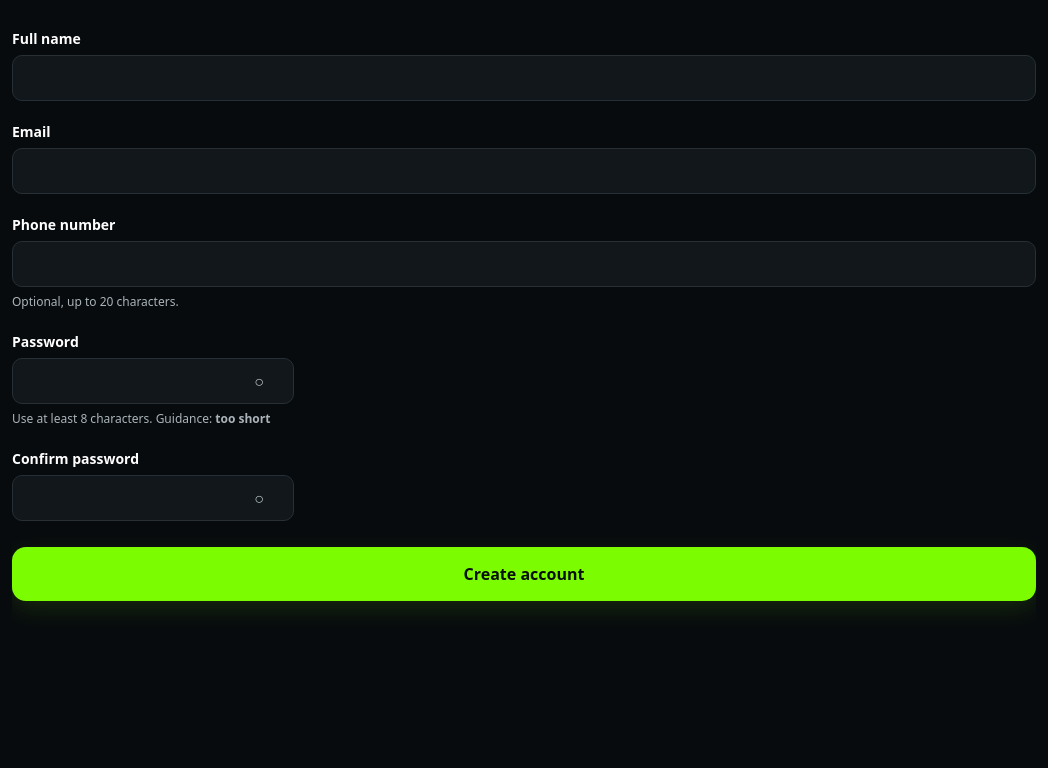
Test case: AuthForm V2 › rejects registration password mismatch without request
Step 1. Type "Mona Ali" into the field labelled "Full name" → [524, 78], box [13, 56, 1035, 100]
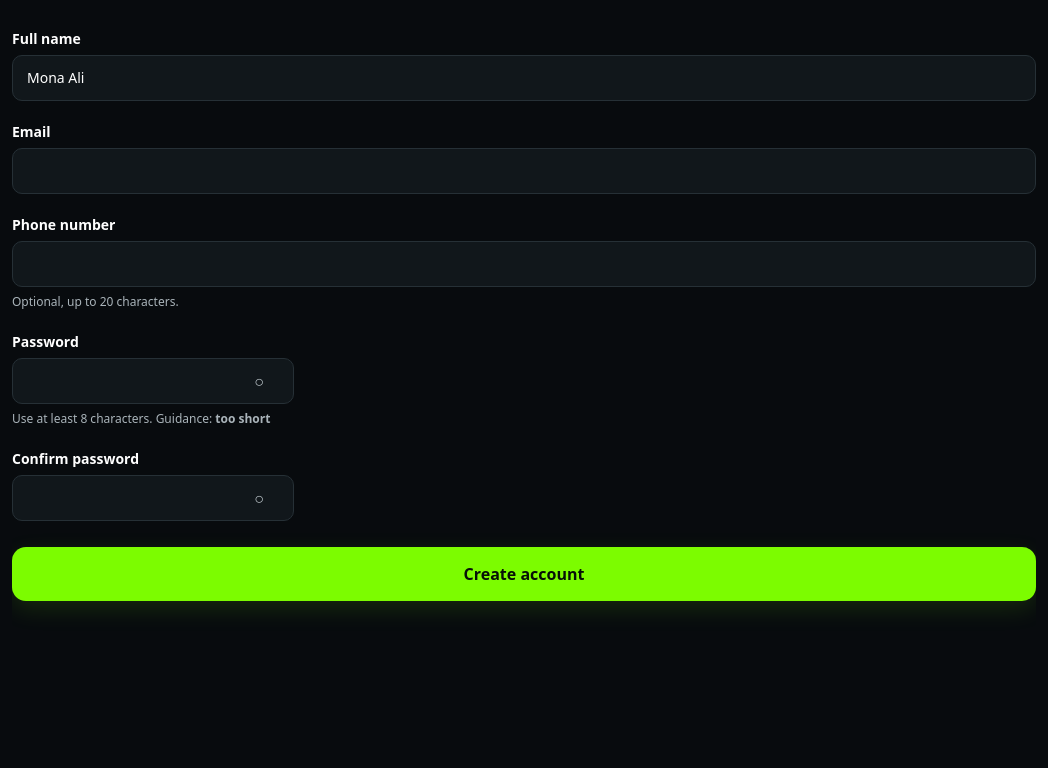
Step 2. Type "player@example.com" into the field labelled "Email" → [524, 171], box [13, 149, 1035, 193]
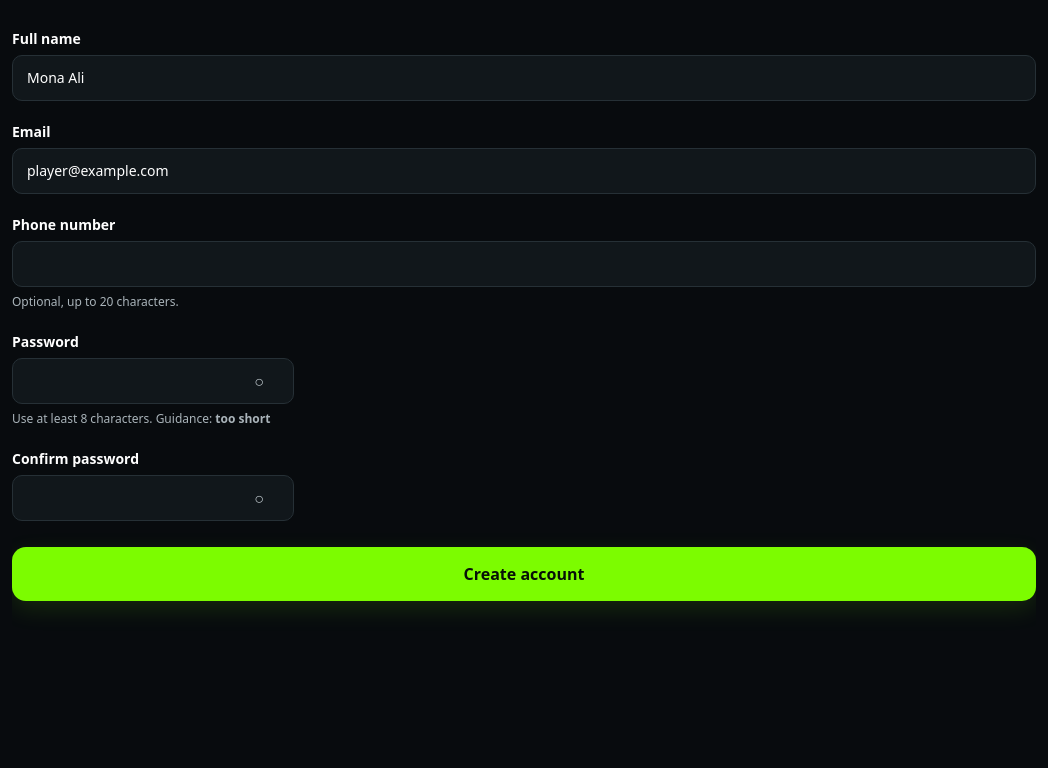
Step 3. Type "password1" into the password field labelled "Password" → [125, 381], box [13, 359, 237, 403]
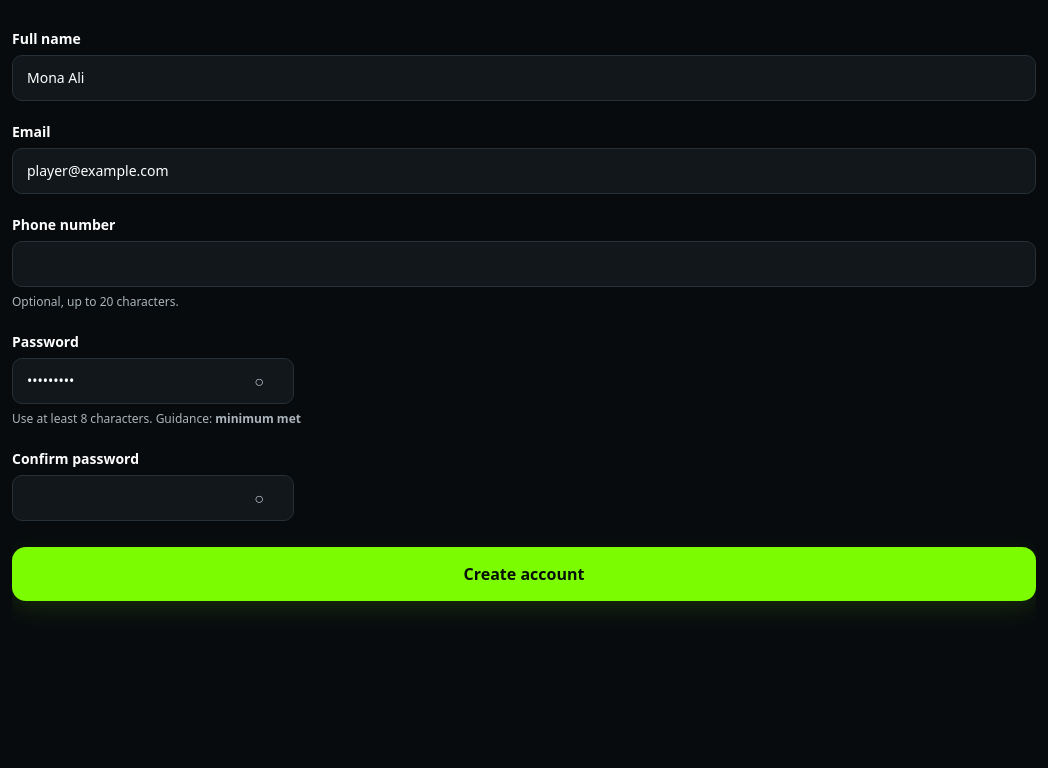
Step 4. Type "password1" into the password field labelled "Confirm password" → [125, 498], box [13, 476, 237, 520]
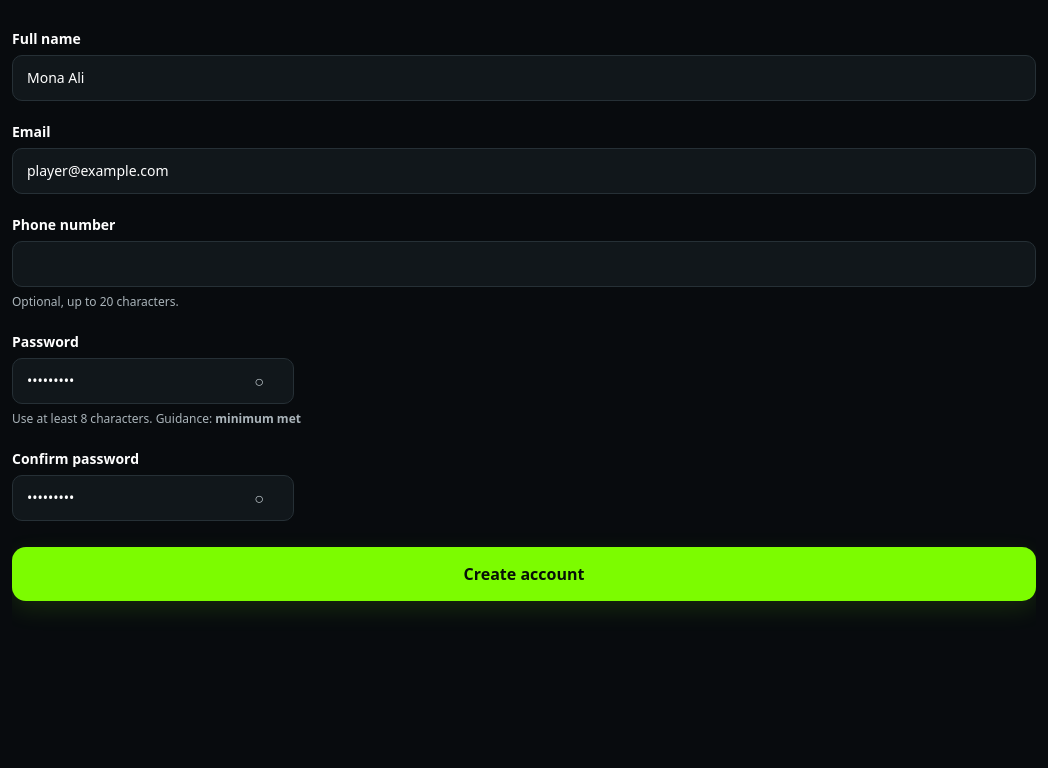
Step 5. Type "different1" into the password field labelled "Confirm password" → [125, 498], box [13, 476, 237, 520]
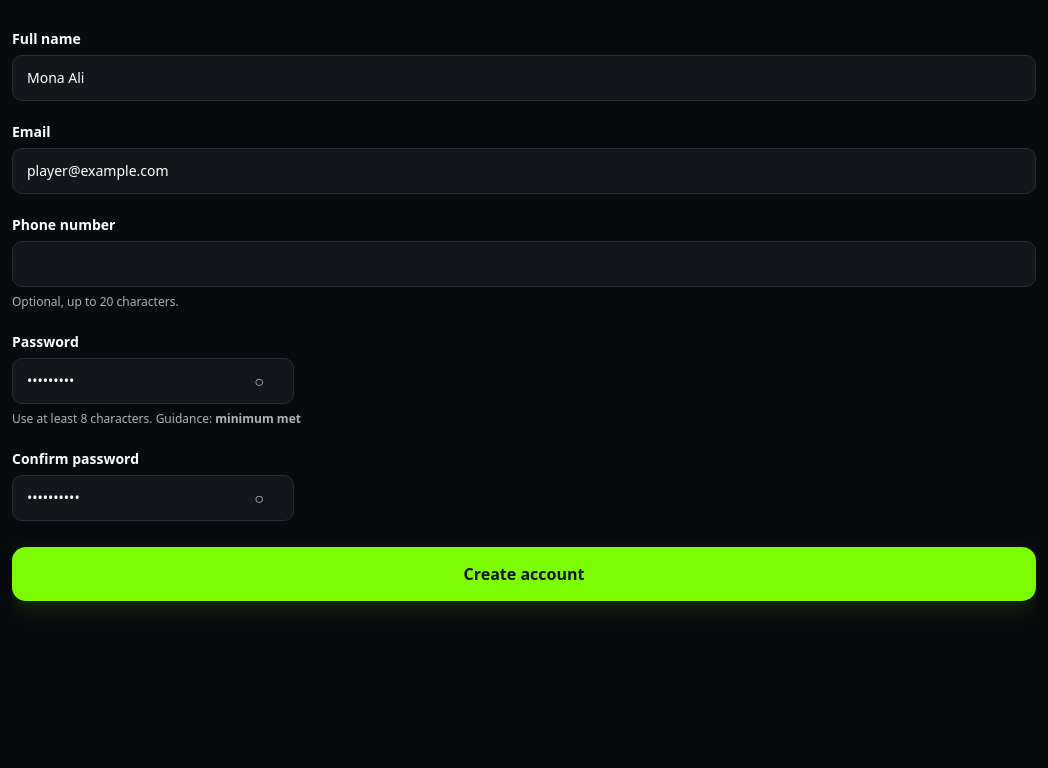
Step 6. Submit the form
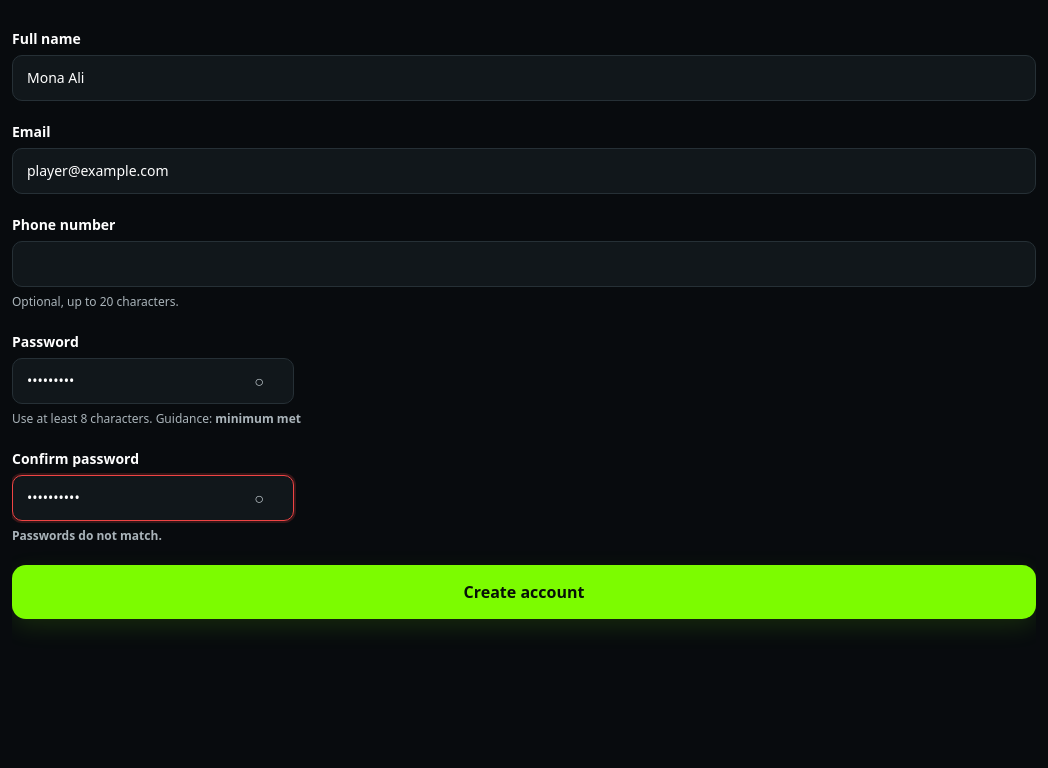
expect the text "Passwords do not match." is shown: met, box [12, 527, 162, 544]
